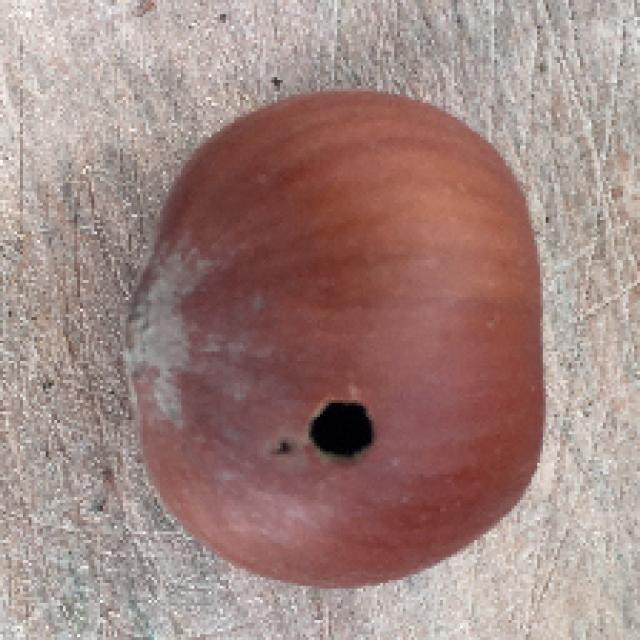DamagedHazelnut: (128, 92, 548, 589)
